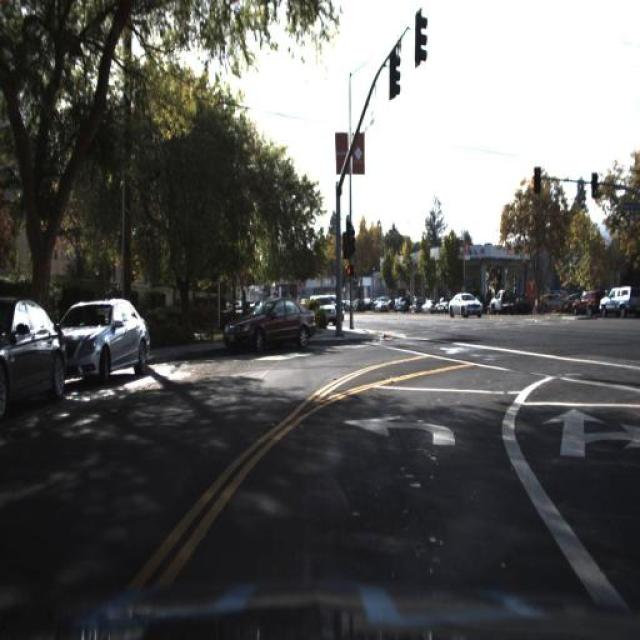car: (60, 286, 155, 394), (0, 295, 64, 417), (220, 296, 320, 364), (592, 284, 638, 318), (446, 285, 486, 321), (308, 290, 343, 328), (600, 286, 639, 318), (572, 287, 602, 314), (537, 287, 565, 314)
